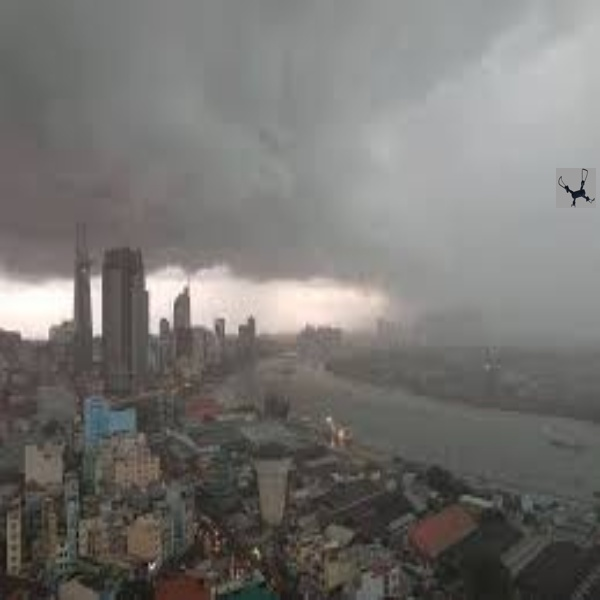drone: (556, 165, 595, 216)
